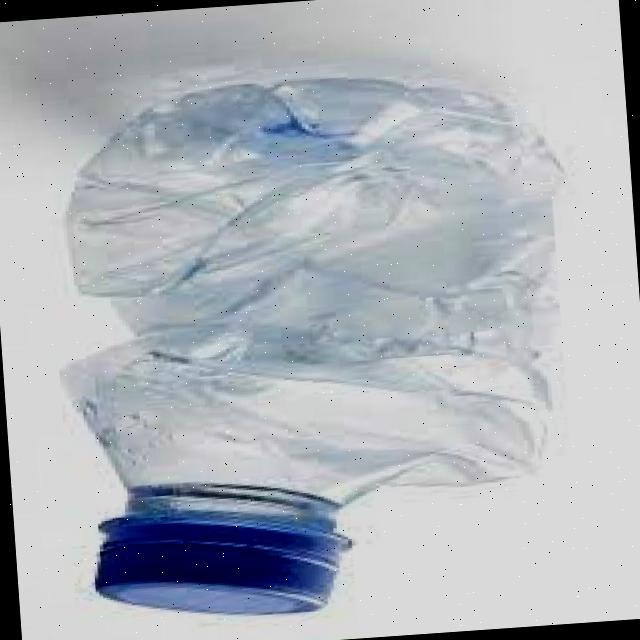bottle: (34, 49, 614, 638)
cap: (88, 487, 356, 623)
